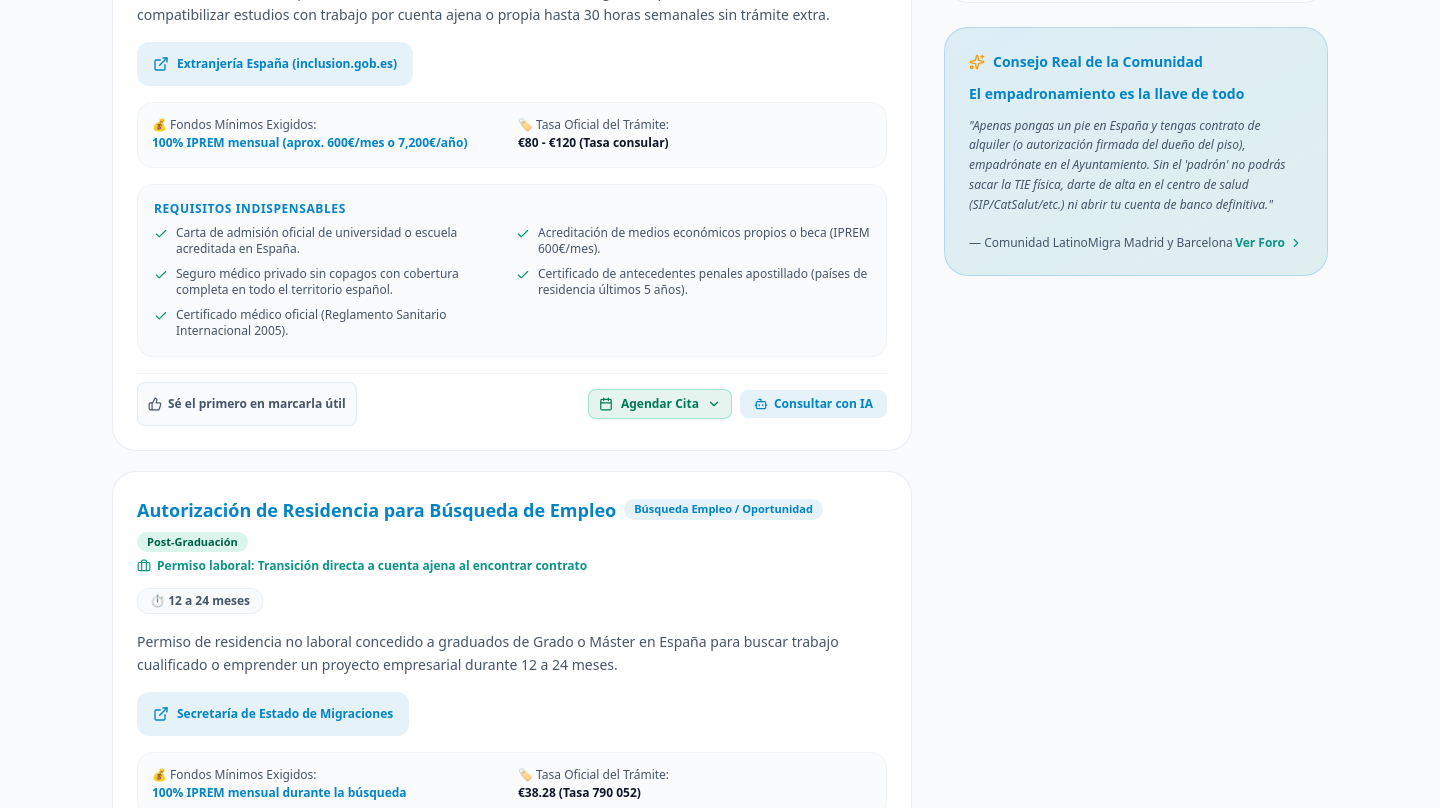
Test: Visa usefulness votes › records a signed-in vote against that user and shows the new count
(page scrolled)
What coordinates should you click on to do the following:
click the button "Sé el primero en marcarla útil"
I would click on:
 (247, 404)
Its box is [137, 382, 357, 426].
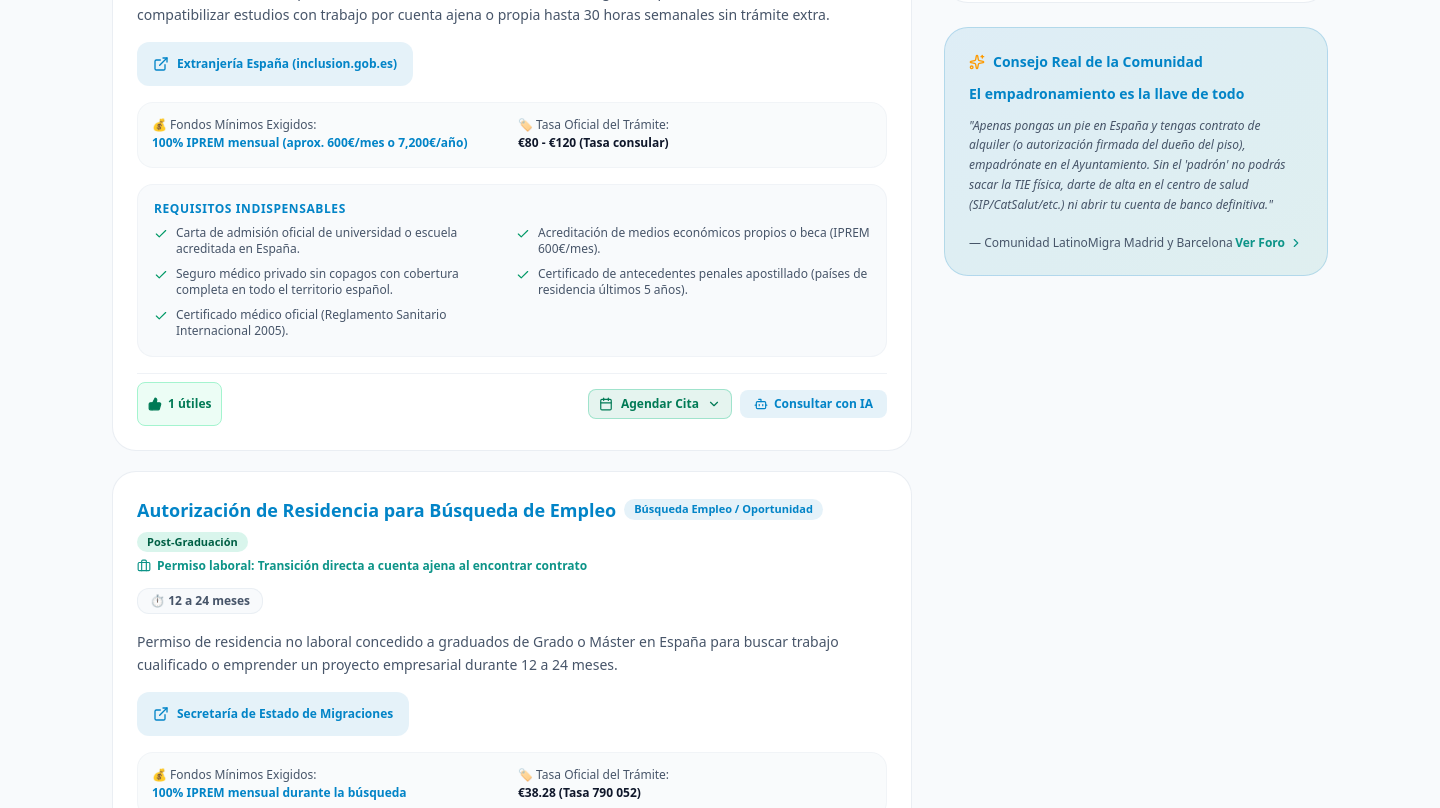
Result: the text "1 útiles" is shown at [168, 396, 212, 412]
